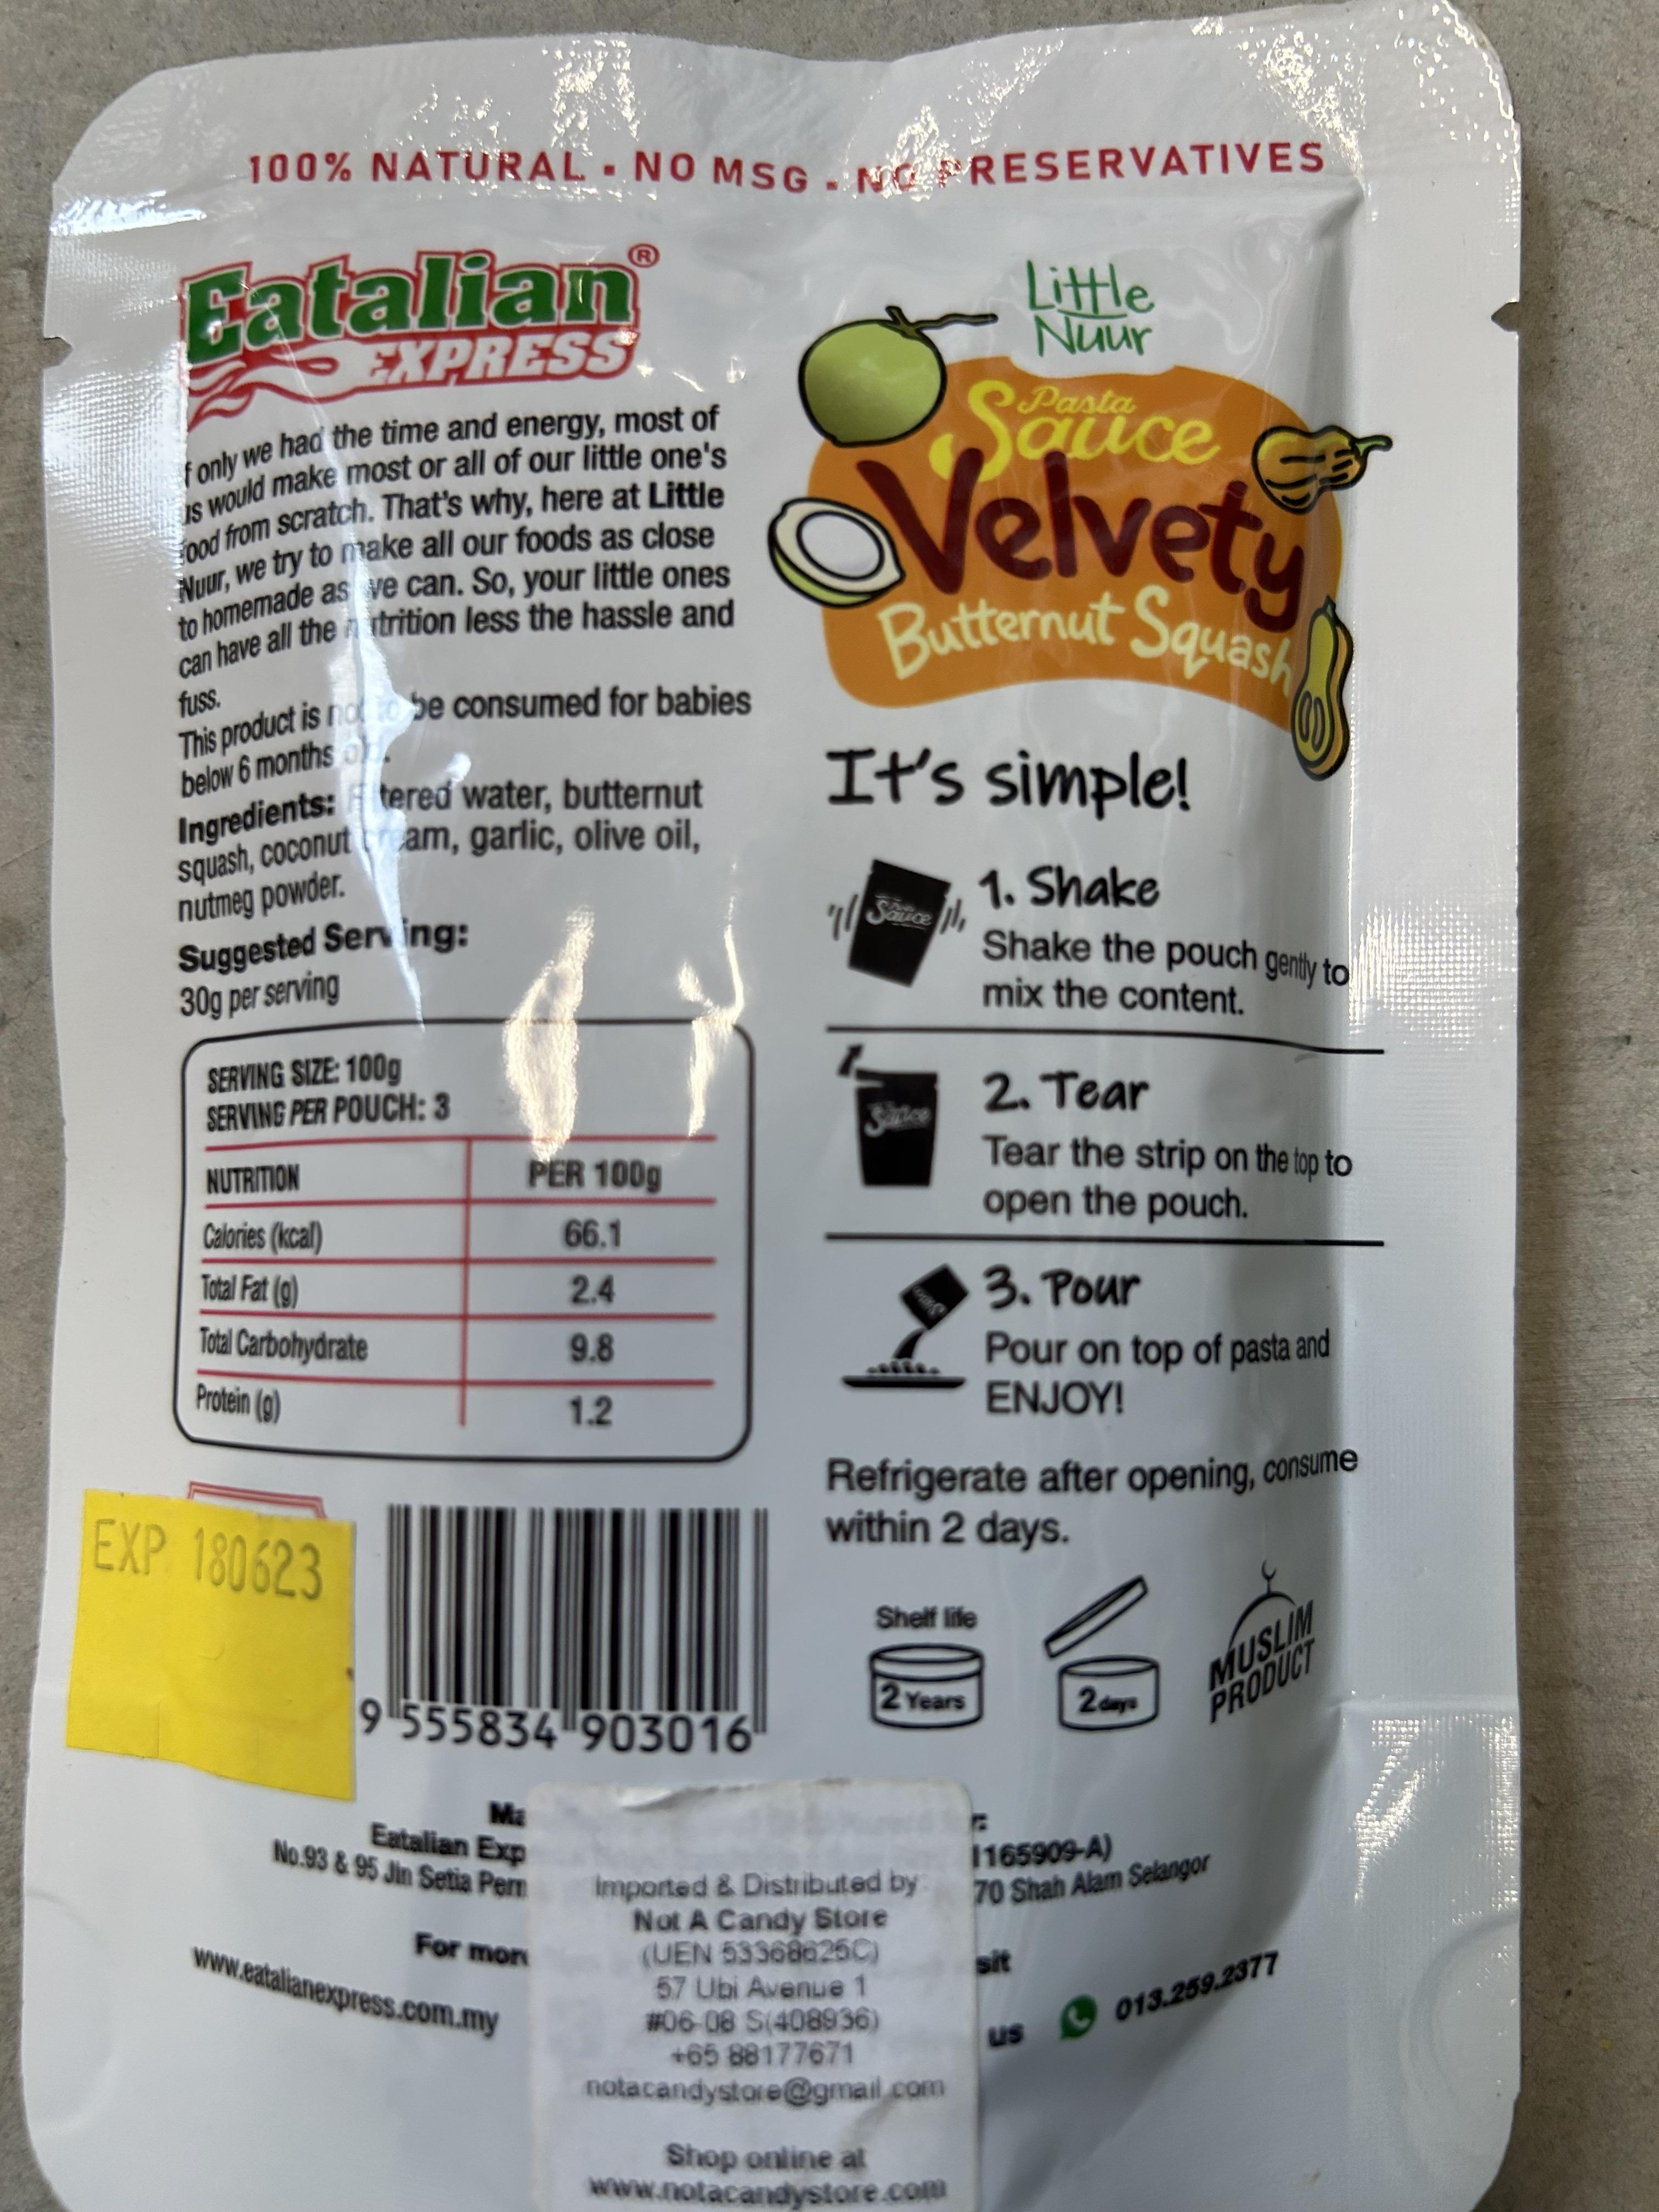object_name: (99, 115, 1452, 2177)
